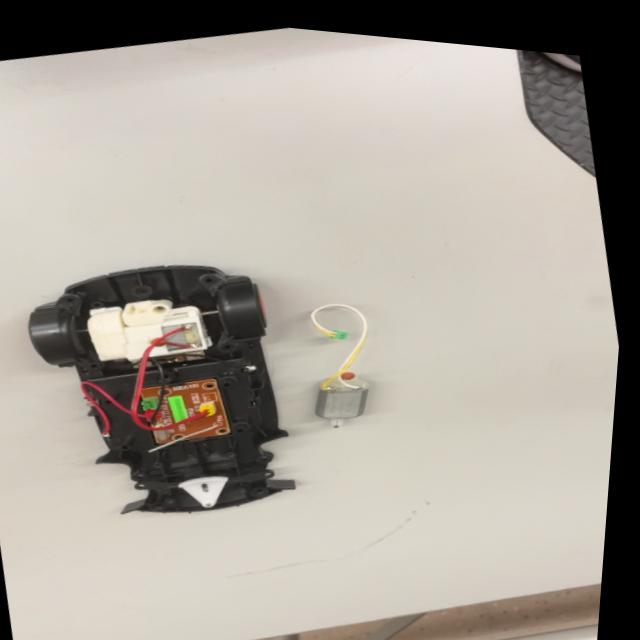Chassis: (5, 236, 315, 563)
motor: (277, 300, 398, 449)
